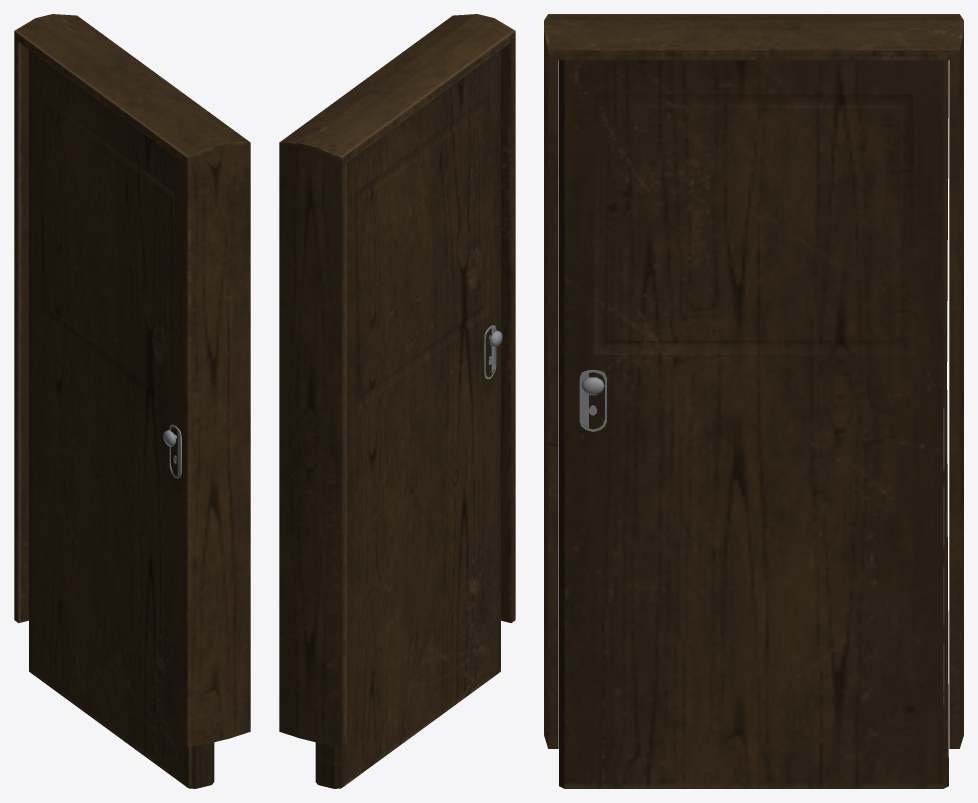
Rendered from InteriorDoorDimensions.fbx.
3 renders of one model, left to right at view 1: azimuth 30°, elevation 25°; view 2: azimuth 150°, elevation 25°; view 3: azimuth 270°, elevation 25°, orthographic. The views are drawn at different scales.
Parts seen in each view (by area): view 1: InteriorDoor.002, InteriorDoorFrame.002; view 2: InteriorDoor.002, InteriorDoorFrame.002; view 3: InteriorDoor.002, InteriorDoorFrame.002.
Boxes of the visible parts, x1,y1,x2,y2 form: InteriorDoor.002: (29,50,214,788); InteriorDoorFrame.002: (14,14,250,746); InteriorDoor.002: (315,50,502,788); InteriorDoorFrame.002: (279,14,515,746); InteriorDoor.002: (559,60,948,788); InteriorDoorFrame.002: (544,14,963,748).
Bounding box in the file's own units: 25.39 × 235 × 117.
